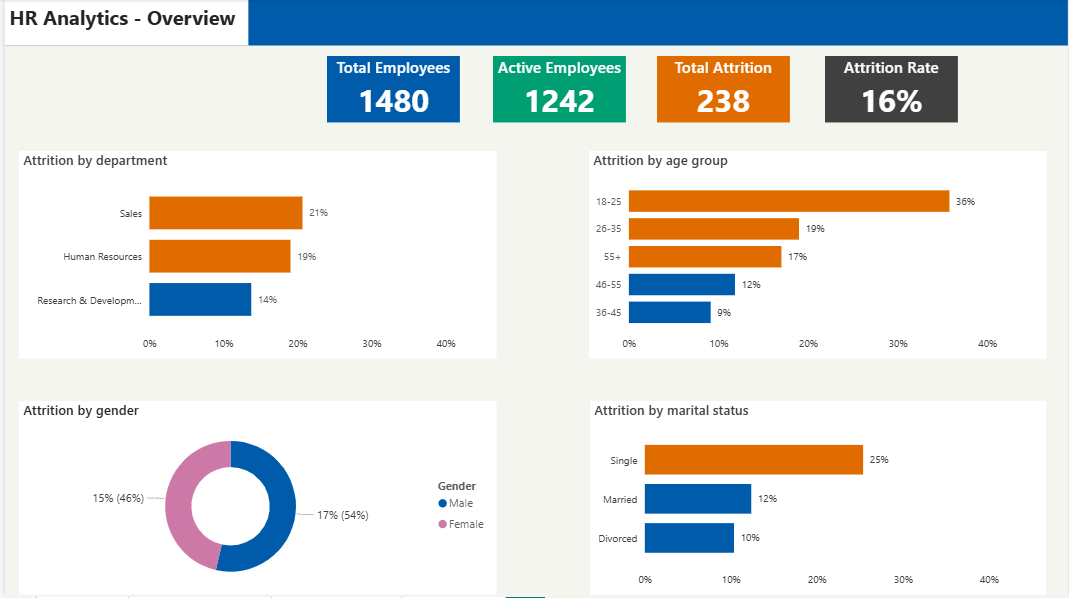

The dashboard page shown, as its layout file describes it:
{"tool":"powerbi","page":{"name":"Overview","canvas":[1280,720],"ordinal":0},"visuals":[{"type":"shape","box":[0,0,1279.7,56],"z":2000},{"type":"textbox","box":[0,0,293,56.5],"z":3000},{"type":"card","title":"Total Employees","fields":{"Values":["_Measures.Total Employees"]},"box":[388.1,68.8,160,80],"z":4000},{"type":"card","title":"Active Employees","fields":{"Values":["_Measures.Active Employees"]},"box":[588.2,68.8,160,80],"z":5000},{"type":"card","title":"Total Attrition","fields":{"Values":["_Measures.Total Attrition"]},"box":[785.4,68.8,160,80],"z":6000},{"type":"card","title":"Attrition Rate","fields":{"Values":["_Measures.Attrition Rate"]},"box":[986.8,68.8,160,80],"z":7000},{"type":"clusteredBarChart","title":"Attrition by department","fields":{"Category":["HR_Analytics.Department"],"Y":["_Measures.Attrition Rate"]},"box":[16.5,183.1,575.3,250.5],"z":8000},{"type":"clusteredBarChart","title":"Attrition by age group","fields":{"Category":["HR_Analytics.Age Group"],"Y":["_Measures.Attrition Rate"]},"box":[703.3,183.1,550.5,250.5],"z":9000},{"type":"clusteredBarChart","title":"Attrition by marital status","fields":{"Y":["_Measures.Attrition Rate"],"Category":["HR_Analytics.Marital Status"]},"box":[702.9,467.7,549.2,232.6],"z":10000},{"type":"donutChart","title":"Attrition by gender","fields":{"Y":["_Measures.Attrition Rate"],"Category":["HR_Analytics.Gender"]},"box":[17.1,467.7,575.5,232.6],"z":11000}]}

Visuals, with their boxes in screenshot pixels (x1, y1, x2, y2), scaled from the page's 1280x720 canvas onto the 1069x598 screenshot:
shape: [x1=0, y1=0, x2=1068, y2=47]
textbox: [x1=0, y1=0, x2=245, y2=47]
"Total Employees" card: [x1=324, y1=57, x2=458, y2=124]
"Active Employees" card: [x1=491, y1=57, x2=625, y2=124]
"Total Attrition" card: [x1=656, y1=57, x2=790, y2=124]
"Attrition Rate" card: [x1=824, y1=57, x2=958, y2=124]
"Attrition by department" clusteredBarChart: [x1=14, y1=152, x2=494, y2=360]
"Attrition by age group" clusteredBarChart: [x1=587, y1=152, x2=1047, y2=360]
"Attrition by marital status" clusteredBarChart: [x1=587, y1=388, x2=1046, y2=582]
"Attrition by gender" donutChart: [x1=14, y1=388, x2=495, y2=582]
